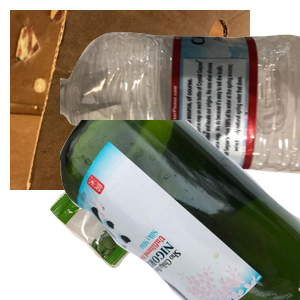cardboard: (10, 10, 250, 190)
glass: (60, 120, 300, 300)
plastic: (60, 30, 300, 196)
trash: (47, 146, 220, 300)
